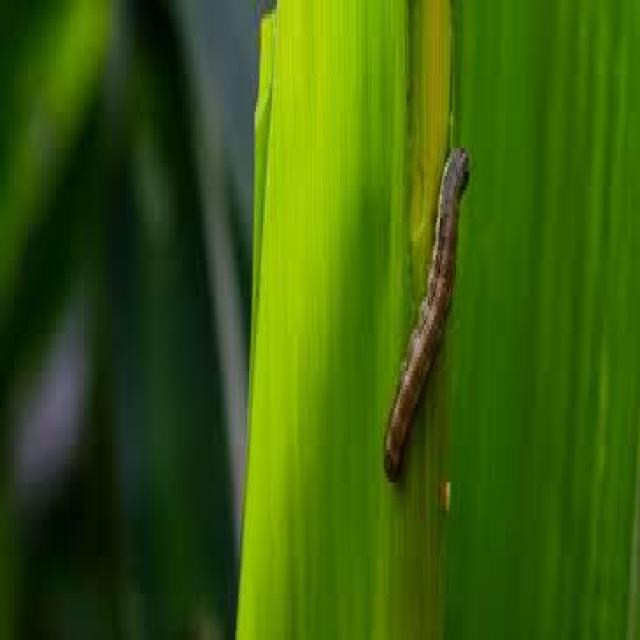armyworm: (383, 138, 474, 479)
